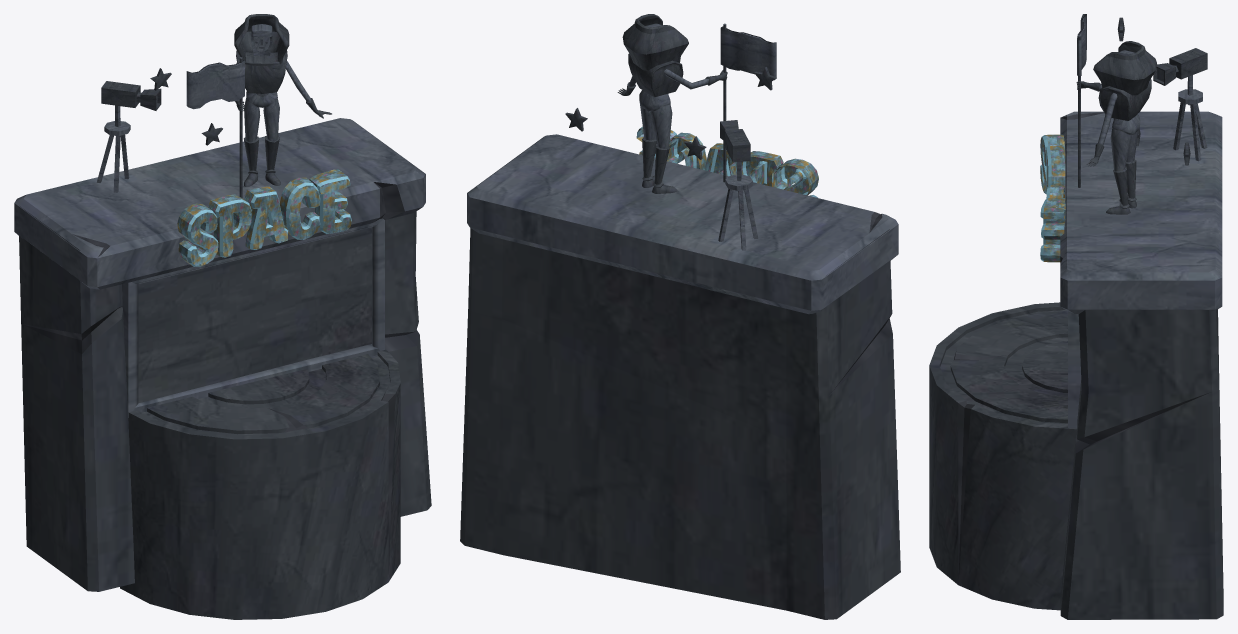
The model's file is stand-space02.glb.
3 renders of one model, left to right at view 1: azimuth 30°, elevation 25°; view 2: azimuth 150°, elevation 25°; view 3: azimuth 270°, elevation 25°, orthographic. The views are drawn at different scales.
Parts seen in each view (by area): view 1: StandSpace02; view 2: StandSpace02; view 3: StandSpace02.
Part boxes in pixels (box(x1,y1,x2,y2)): StandSpace02: box(14, 14, 431, 619); StandSpace02: box(460, 14, 900, 619); StandSpace02: box(929, 14, 1223, 619).
Size of what is drawn, in the model's own units: 11.13 by 15.77 by 8.14.
1 material, 1 textured.
